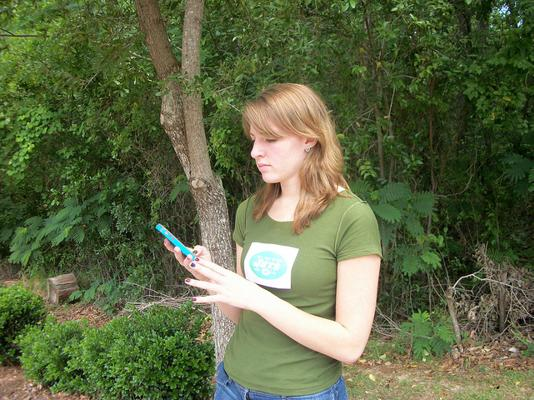person: (163, 83, 382, 400)
